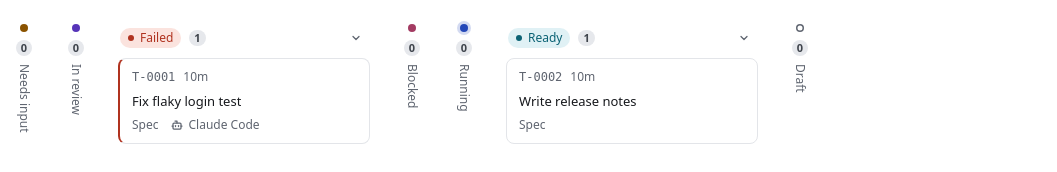
TaskBoard › opens an empty column from its rail, and folds it again
The width and height of the screenshot is (1057, 172).
Click the button with aria-label "Expand In review, 0 tasks" at (76, 70), box x1=56 y1=12 x2=96 y2=127
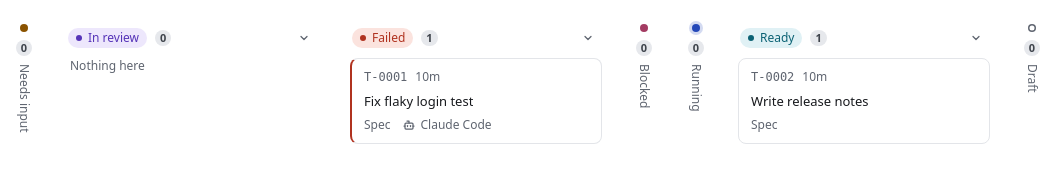
Now the text "Nothing here" is shown, box x1=70 y1=57 x2=145 y2=74
Click the button named "Collapse In review" at (304, 38), box x1=292 y1=26 x2=316 y2=50
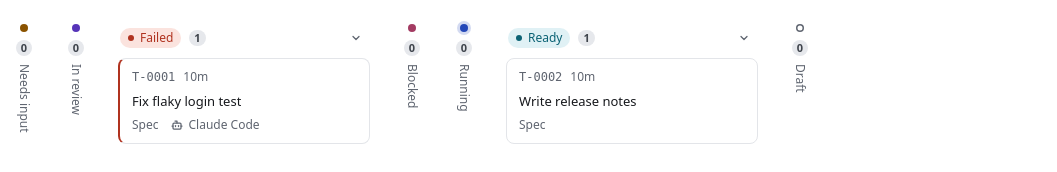
Now the button with aria-label "Expand In review, 0 tasks" is shown, box x1=56 y1=12 x2=96 y2=127
